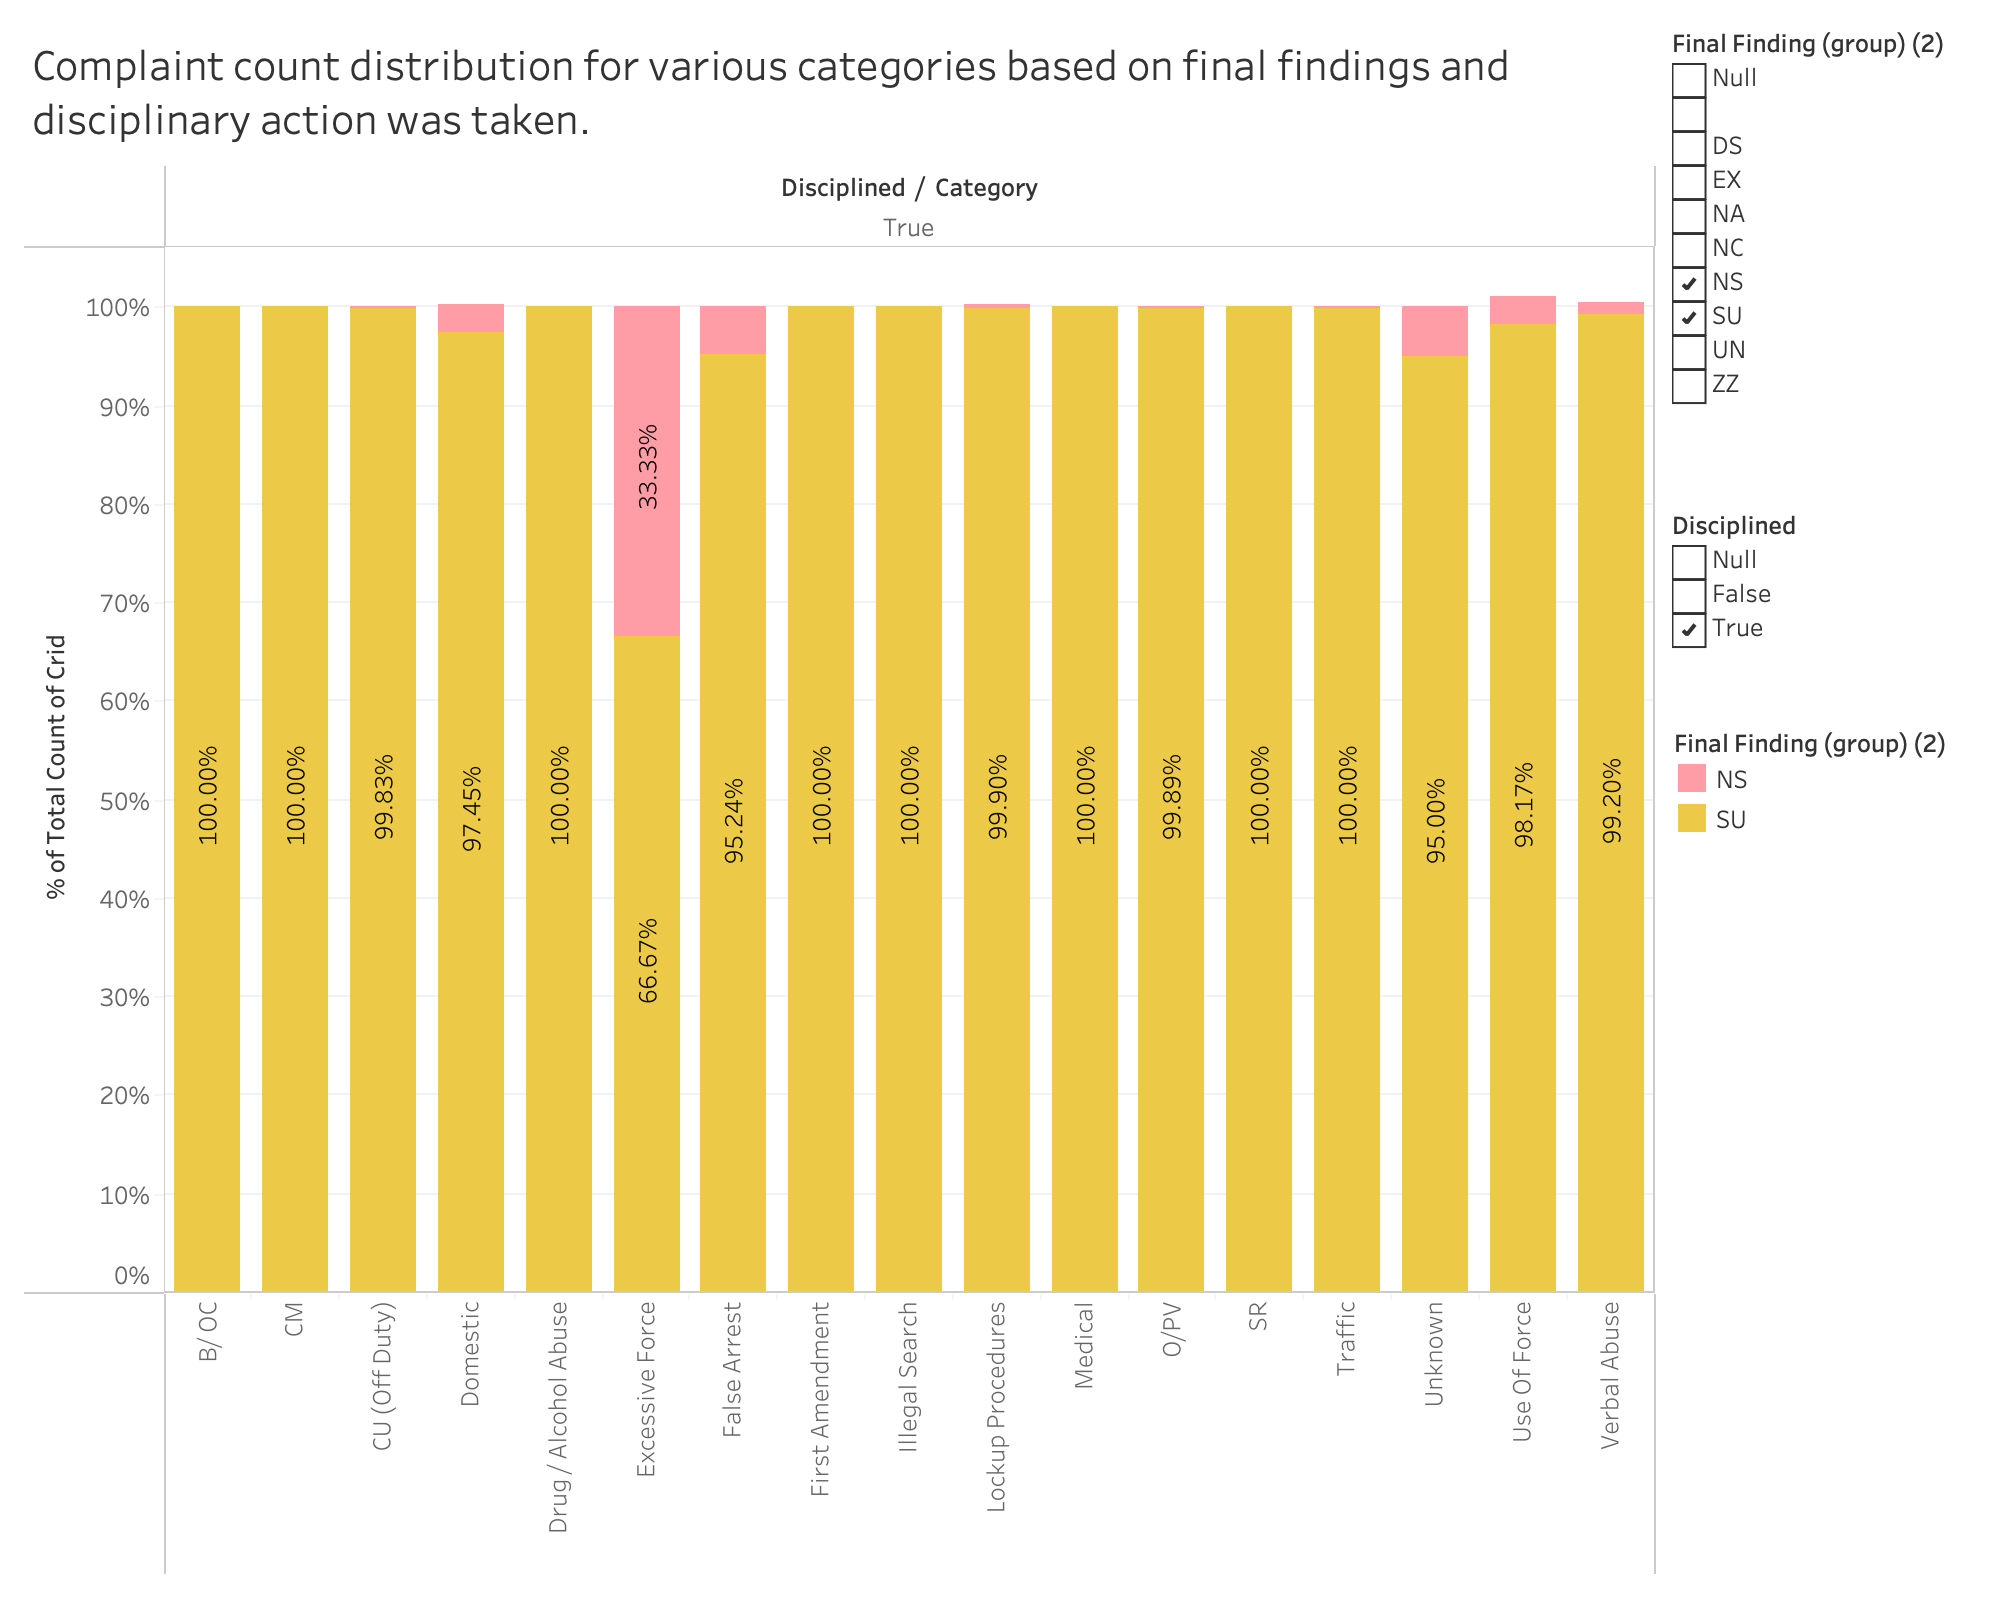

Layout of this report page (visuals, bound fields, positions):
{"tool":"tableau","page":{"name":"Viz 5_2","canvas":[1000,800],"ordinal":5},"visuals":[{"type":"worksheet","title":"Distribution - True Disciplining","mark":"Automatic","cols":["disciplined","category"],"box":[8,8,824,784]},{"type":"filter","title":"Distribution - True Disciplining","param":"[federated.1b0pa4i1ec3ry010a1tgf1q66knt (copy)].[Final Finding (group) 2]","box":[832,8,160,241]},{"type":"filter","title":"Distribution - True Disciplining","param":"[federated.1b0pa4i1ec3ry010a1tgf1q66knt (copy)].[none:disciplined:nk]","box":[832,249,160,108]},{"type":"legend","title":"Distribution - True Disciplining","param":"[federated.1b0pa4i1ec3ry010a1tgf1q66knt (copy)].[Final Finding (group) 2]","box":[832,357,160,66]}]}

Visuals, with their boxes in screenshot pixels (x1, y1, x2, y2), scaled from the page's 1000x800 canvas onto the 2000x1600 screenshot:
"Distribution - True Disciplining" worksheet: (16,16,1664,1584)
"Distribution - True Disciplining" filter: (1664,16,1984,498)
"Distribution - True Disciplining" filter: (1664,498,1984,714)
"Distribution - True Disciplining" legend: (1664,714,1984,846)
